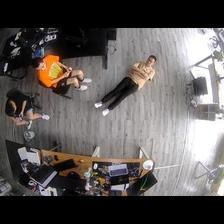fall: (95, 53, 159, 114)
normal: (34, 59, 95, 93), (6, 92, 49, 129)
